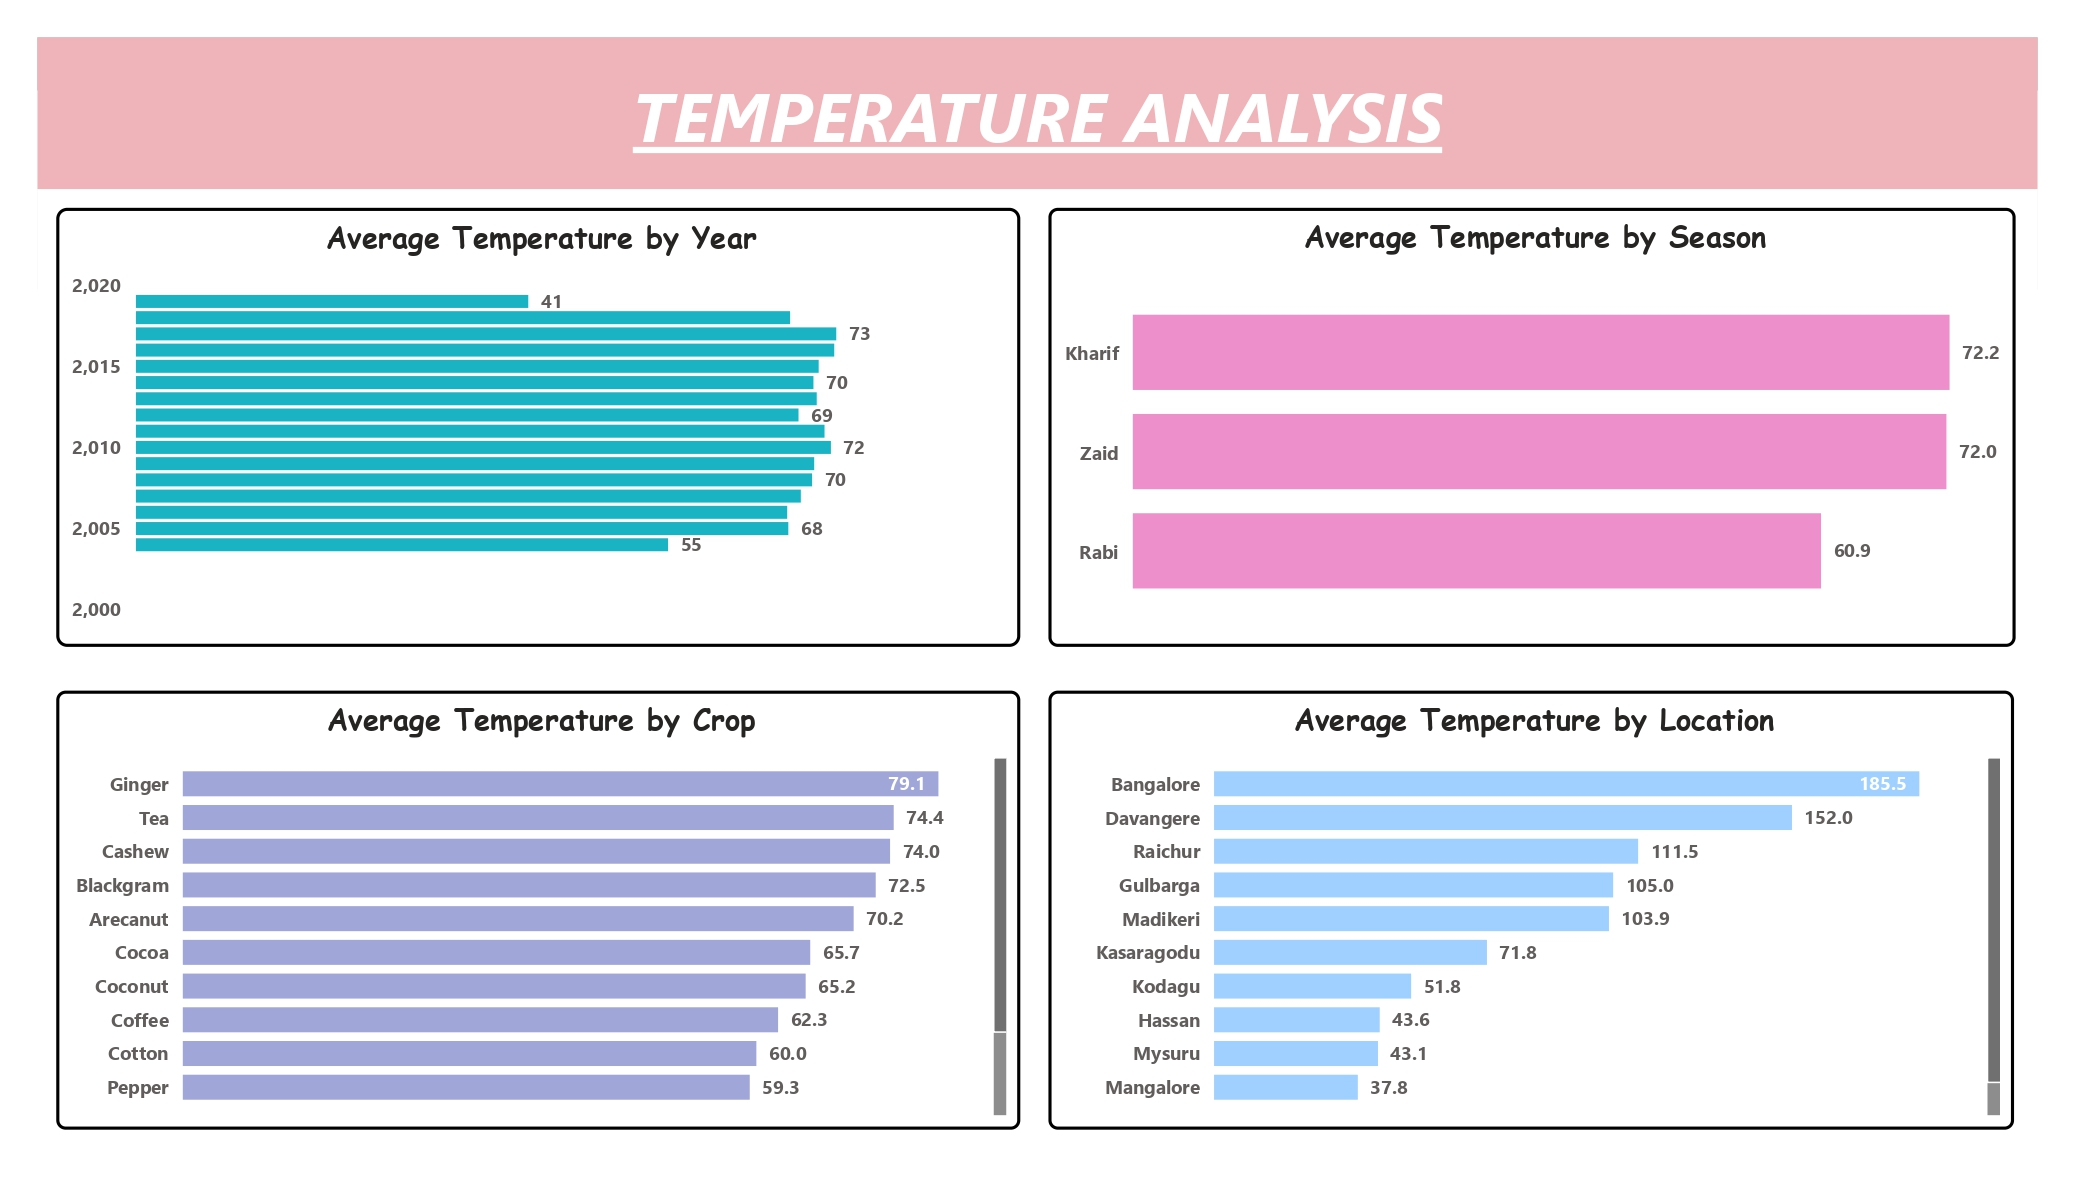

The page's visual inventory and layout, read from the dashboard file:
{"tool":"powerbi","page":{"name":"Temperature Analysis","canvas":[1280,720],"ordinal":1},"visuals":[{"type":"shape","box":[0,0,1279.8,96.8],"z":0},{"type":"barChart","title":"Average  Temperature by Year","fields":{"Category":["AGRICULTURE.YEAR"],"Y":["AGRICULTURE.TEMPERATURE"]},"box":[11.7,109,617.5,281.5],"z":1000},{"type":"barChart","title":"Average  Temperature by Season","fields":{"Category":["AGRICULTURE.SEASON"],"Y":["AGRICULTURE.TEMPERATURE"]},"box":[647.4,109,618.8,281.5],"z":2000},{"type":"barChart","title":"Average  Temperature by Crop","fields":{"Category":["AGRICULTURE.CROPS"],"Y":["AGRICULTURE.TEMPERATURE"]},"box":[11.7,417.7,617.5,281.5],"z":3000},{"type":"barChart","title":"Average  Temperature by Location","fields":{"Category":["AGRICULTURE.LOCATION"],"Y":["AGRICULTURE.TEMPERATURE"]},"box":[647.4,417.7,618,281.5],"z":4000}]}

Visuals, with their boxes on the page's 1280x720 design canvas (x1, y1, x2, y2). These are canvas units, not pixel positions in the 2075x1200 screenshot, which may show the page scaled, cropped or inside an application window:
shape: <region>0, 0, 1280, 97</region>
"Average  Temperature by Year" barChart: <region>12, 109, 629, 390</region>
"Average  Temperature by Season" barChart: <region>647, 109, 1266, 390</region>
"Average  Temperature by Crop" barChart: <region>12, 418, 629, 699</region>
"Average  Temperature by Location" barChart: <region>647, 418, 1265, 699</region>
